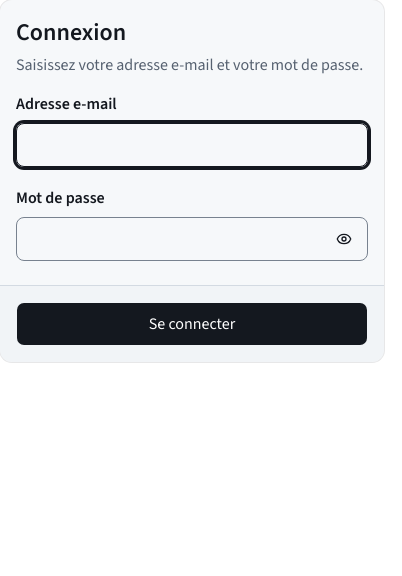
LoginForm › lists what is missing, repeats it at the field, moves the focus and sends nothing
Step 1. Click the button "Se connecter" → (192, 324), box top-left (16, 302), bottom-right (368, 346)
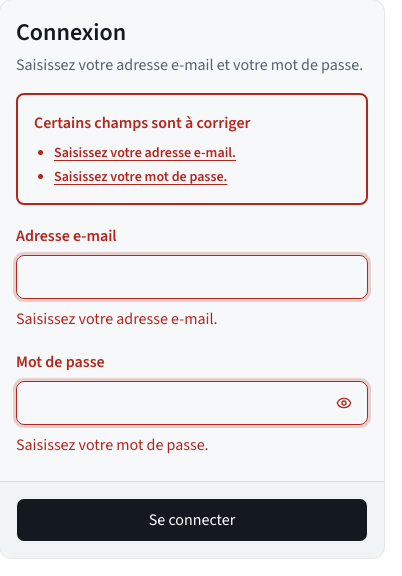
expect the message shows "Certains champs sont à corriger": met, box top-left (34, 112), bottom-right (250, 134)
expect the message shows "Saisissez votre adresse e-mail.": met, box top-left (54, 143), bottom-right (236, 163)
expect the message shows "Saisissez votre mot de passe.": met, box top-left (54, 167), bottom-right (227, 187)
